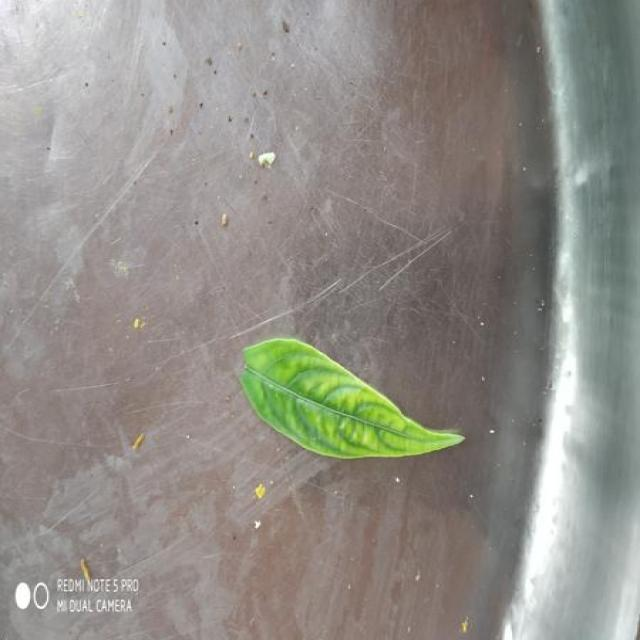Nelavembu: (240, 339, 463, 459)
